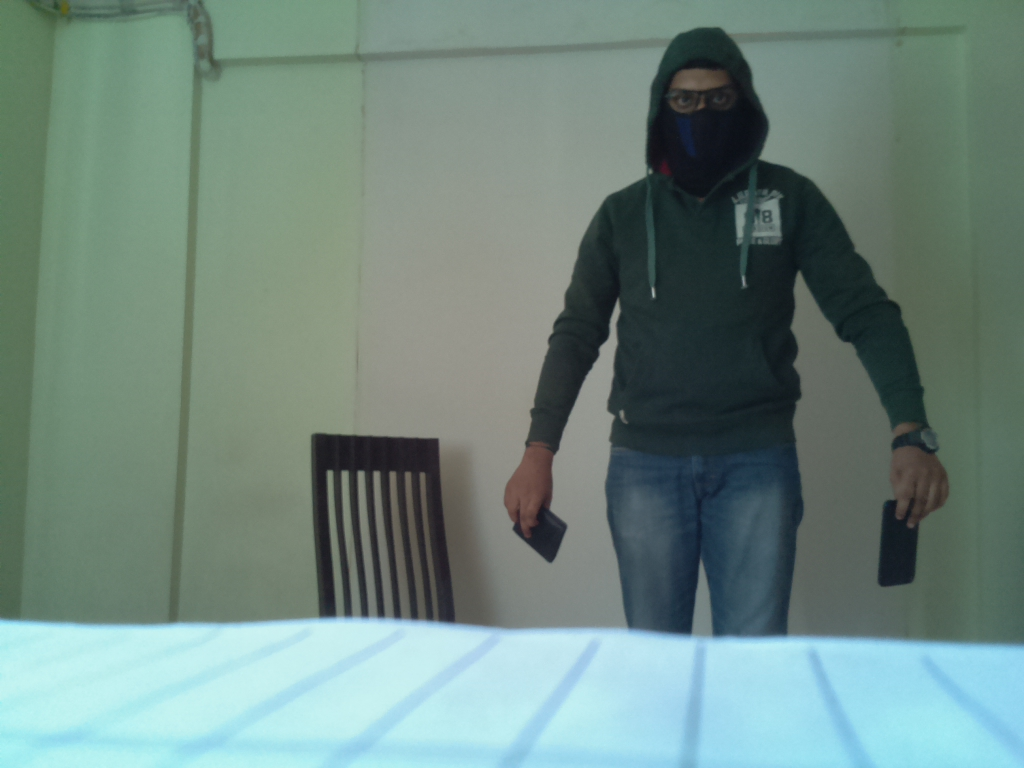none2: (877, 497, 919, 589), (501, 510, 569, 565), (894, 428, 943, 451)
